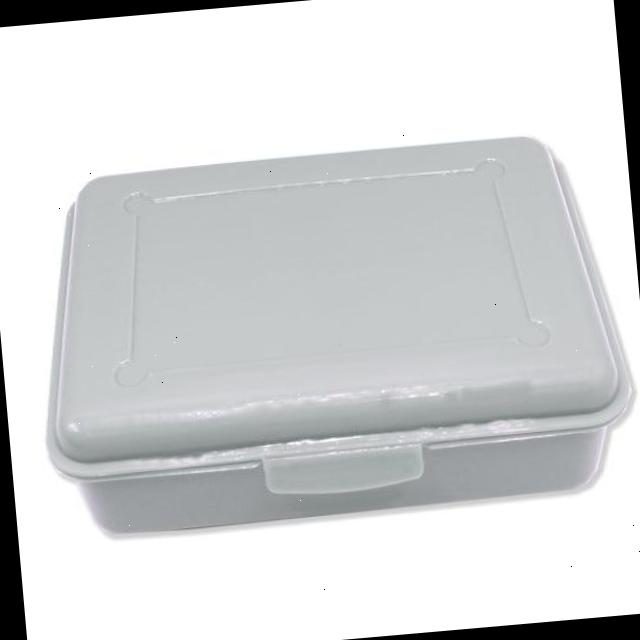styrofoam: (20, 125, 640, 543)
